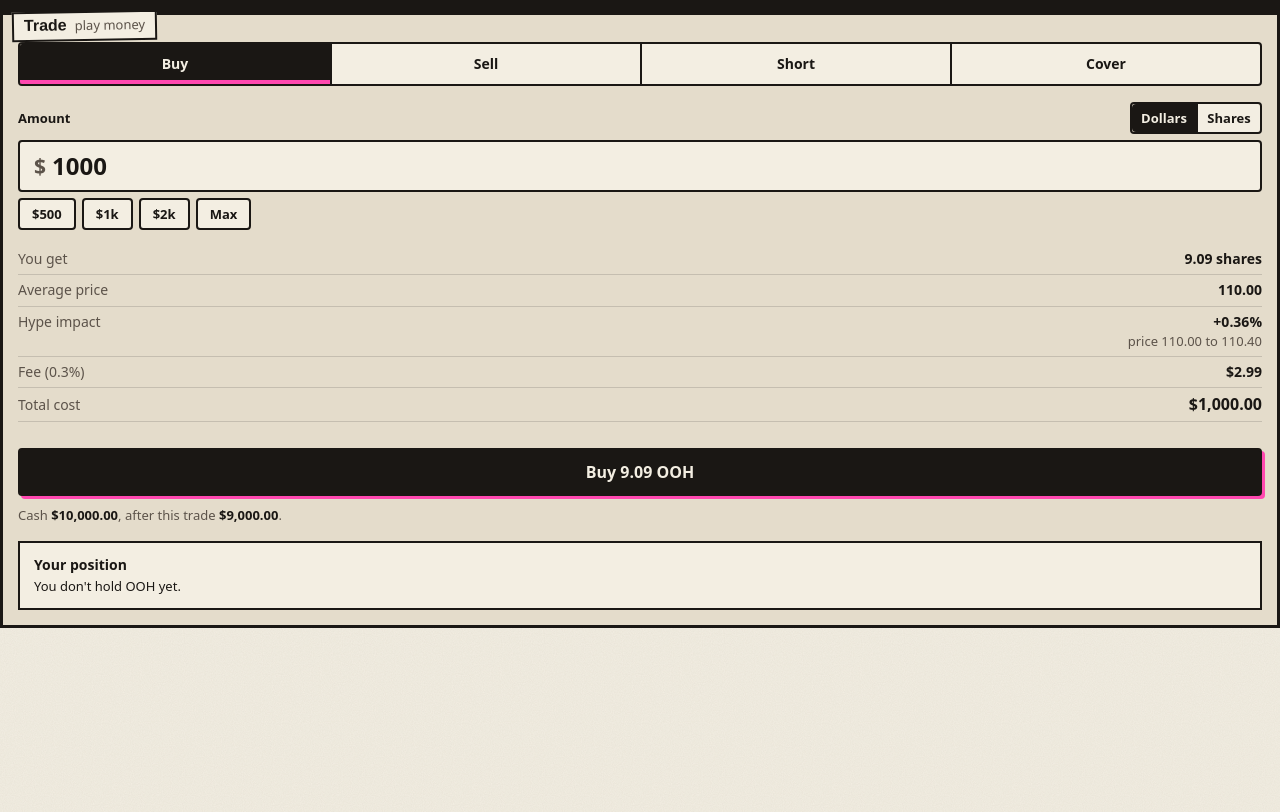
Test: trading while the market is paused › says the market is opening after a boot, and shows the refusal if the retry is paused too
Click the button "Buy 9.09 OOH" at (640, 472), box [18,448,1262,496]
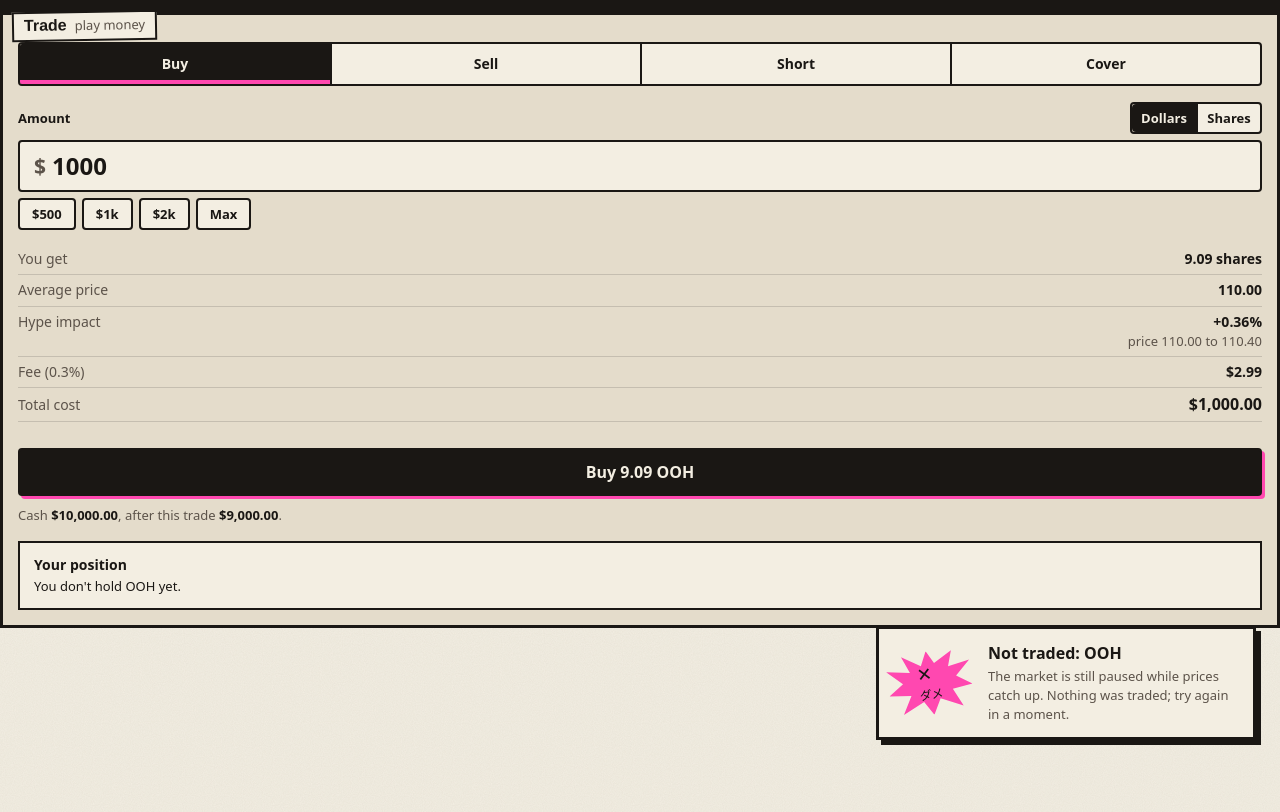
expect the text "Not traded: OOH" is shown: met, box [988,642,1122,664]
expect the text "still paused" is shown: met, box [988,668,1228,723]
